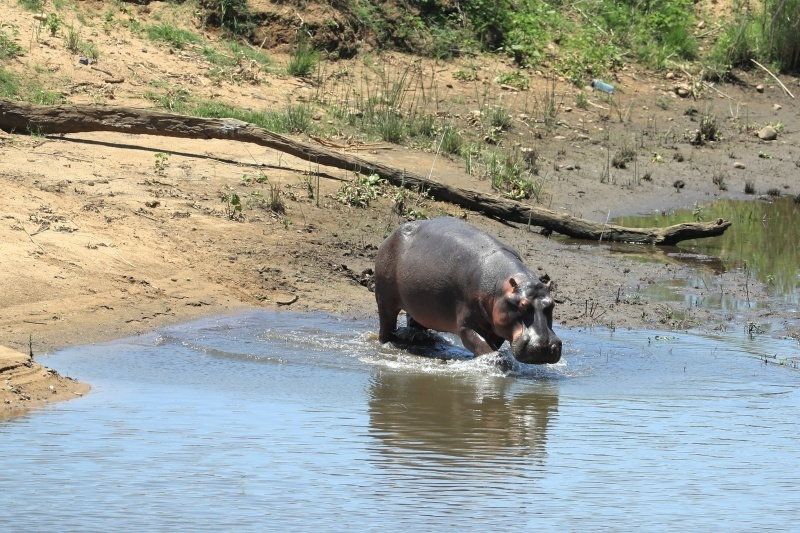hipopotamo: (369, 212, 566, 374)
